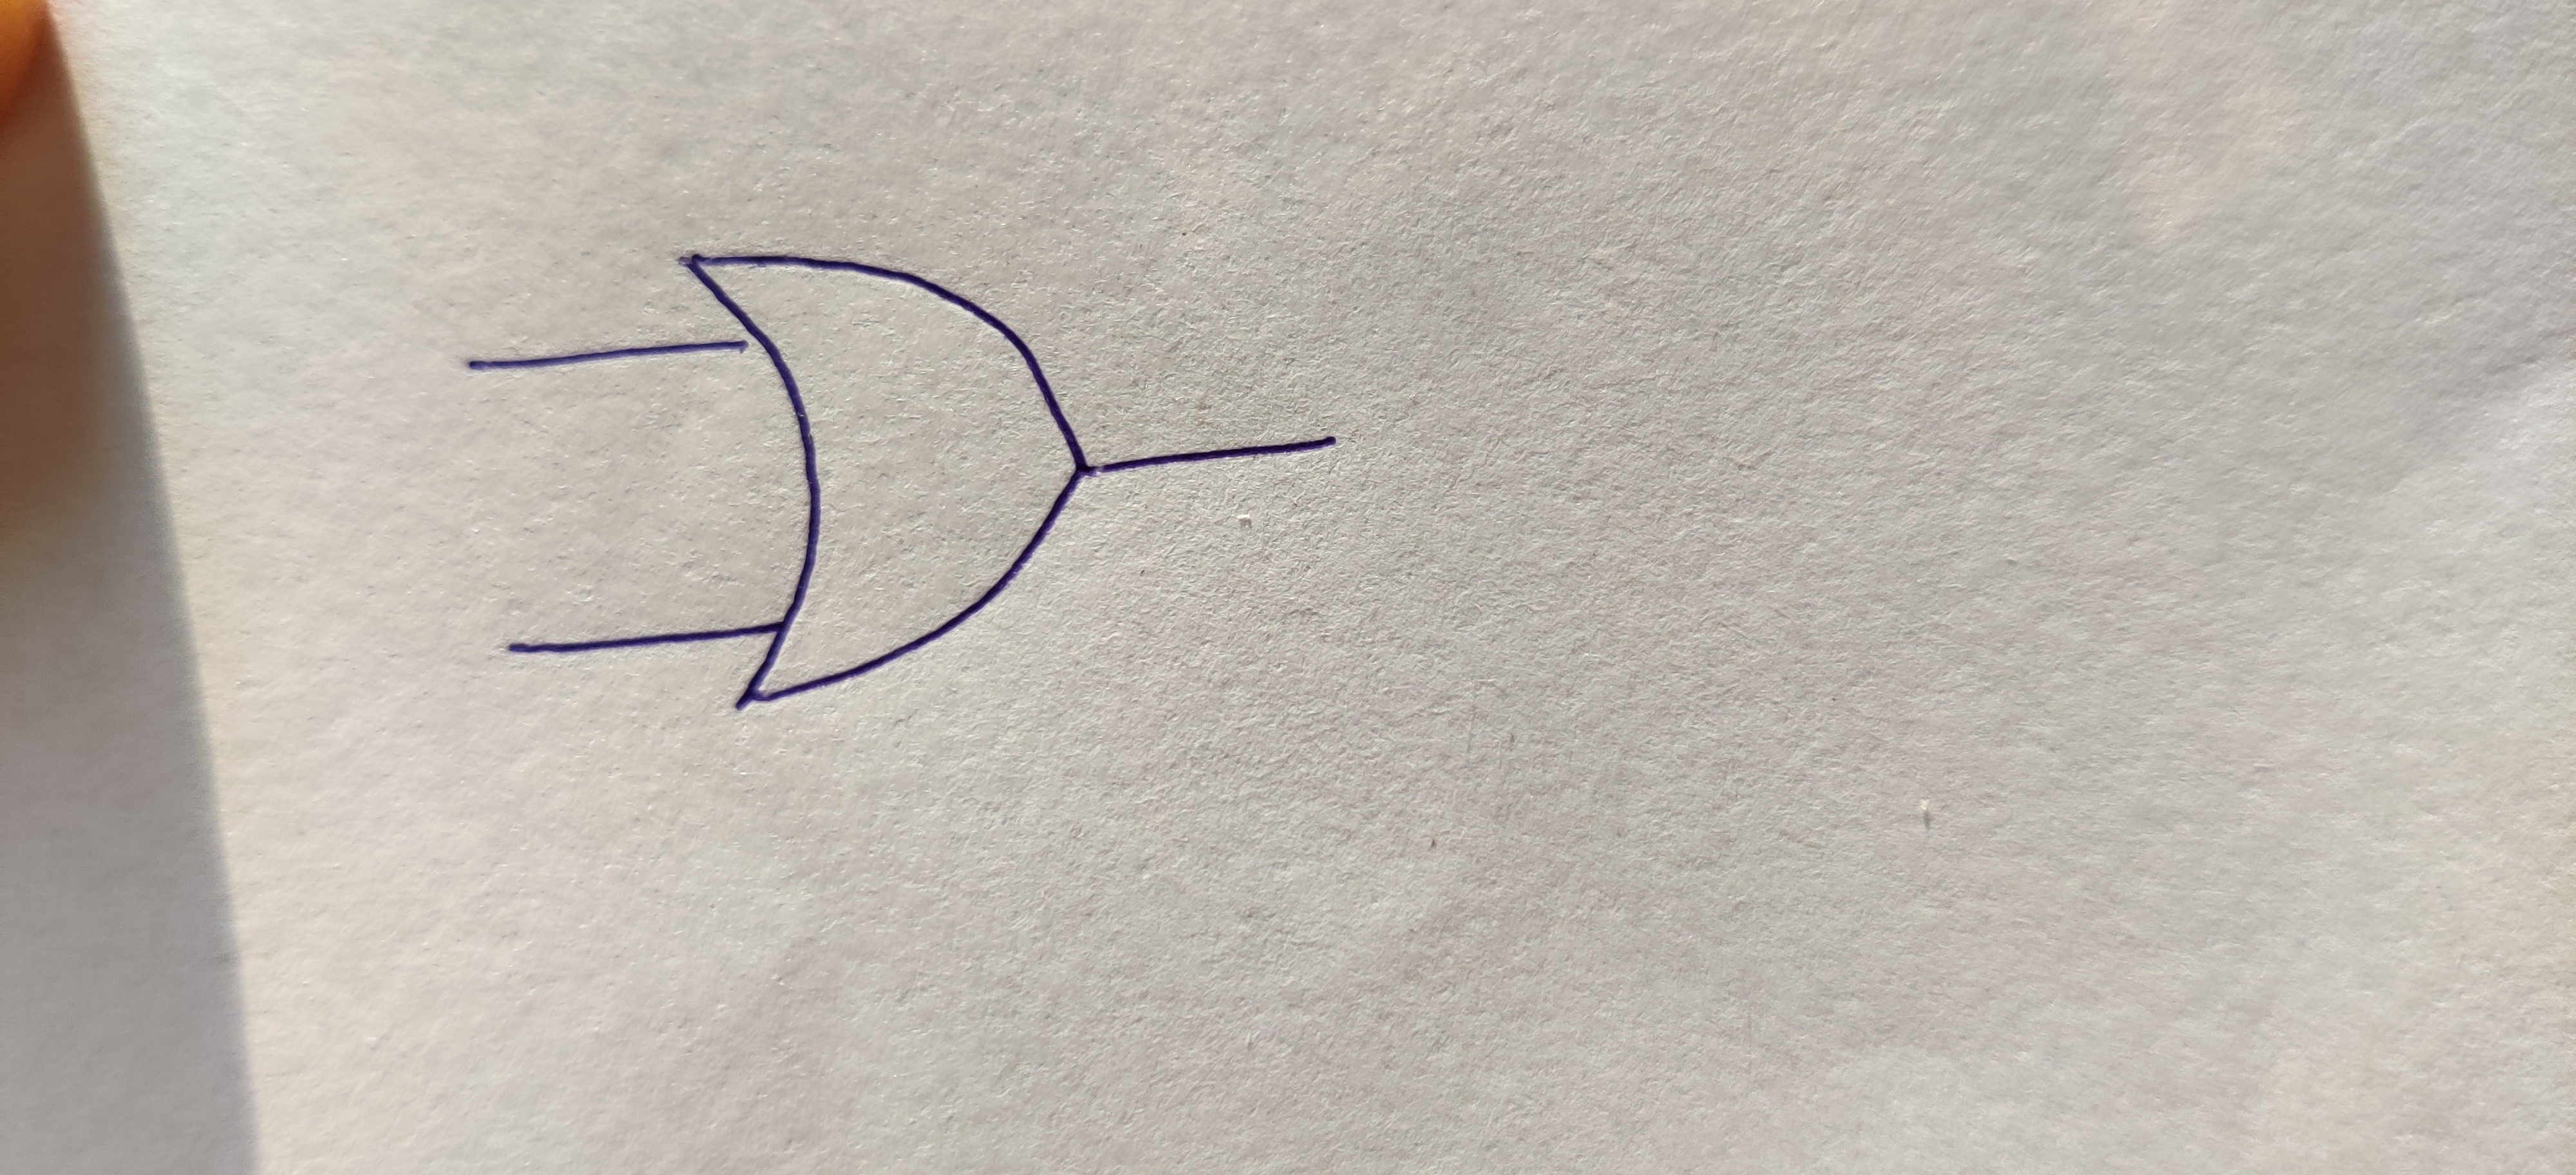or: (683, 250, 1073, 705)
